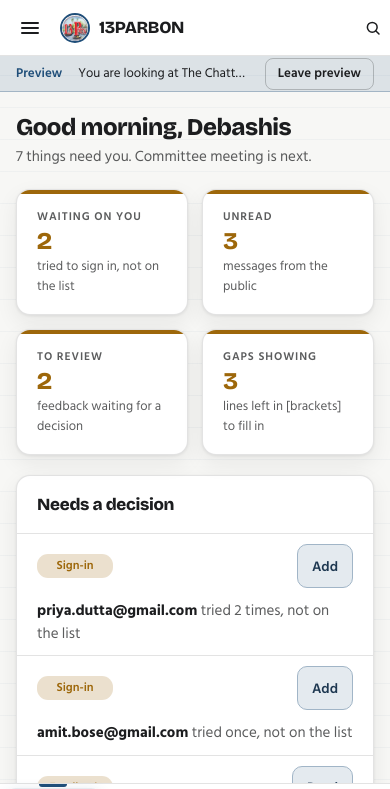
Scenario: the portal’s menu on a phone › shuts on a link to the screen you are already on, too
Click the 1st button named "Open menu" at (30, 28), box [8,6,52,50]
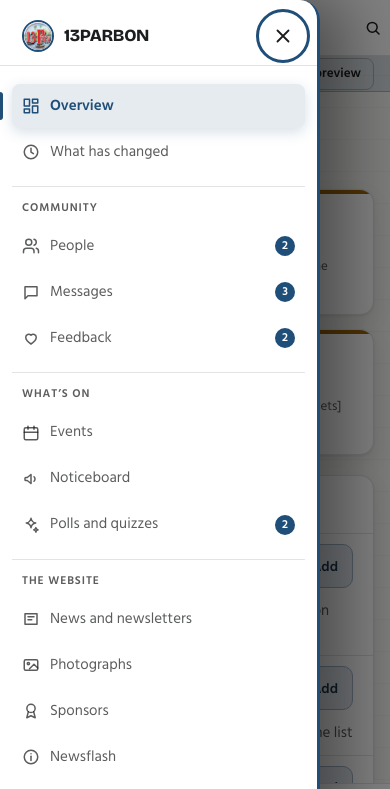
Click the link "Overview" at (68, 105), box [22,93,114,118]
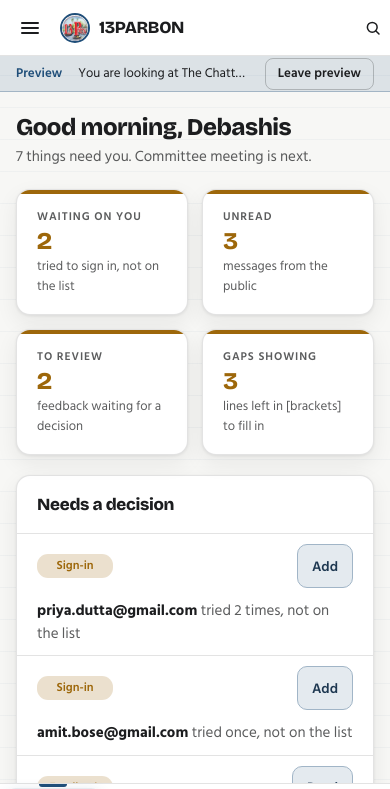
Result: the 1st button named "Open menu" is collapsed at [8,6,52,50]
